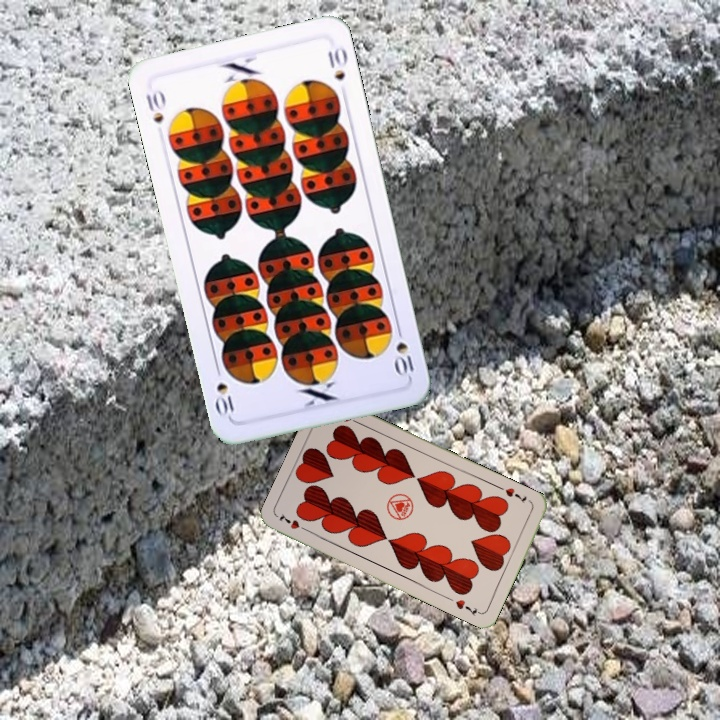H7: (275, 509, 312, 535), (501, 484, 529, 506)
S10: (391, 321, 416, 380), (142, 85, 169, 126)
